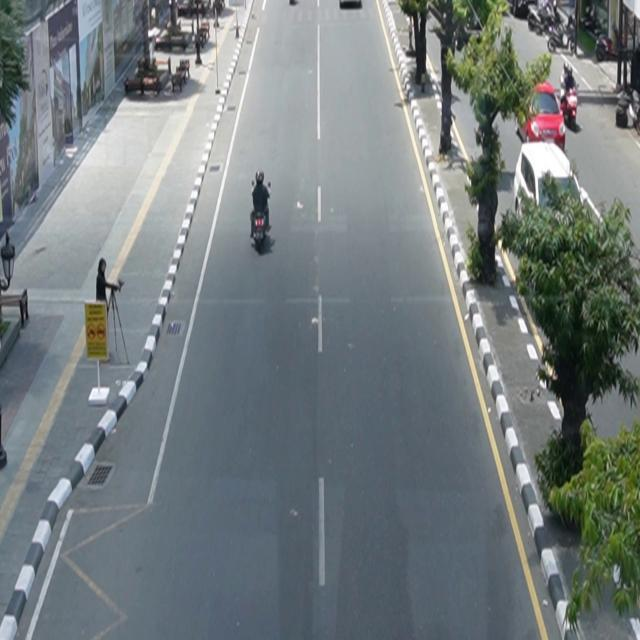car: (516, 82, 567, 152)
